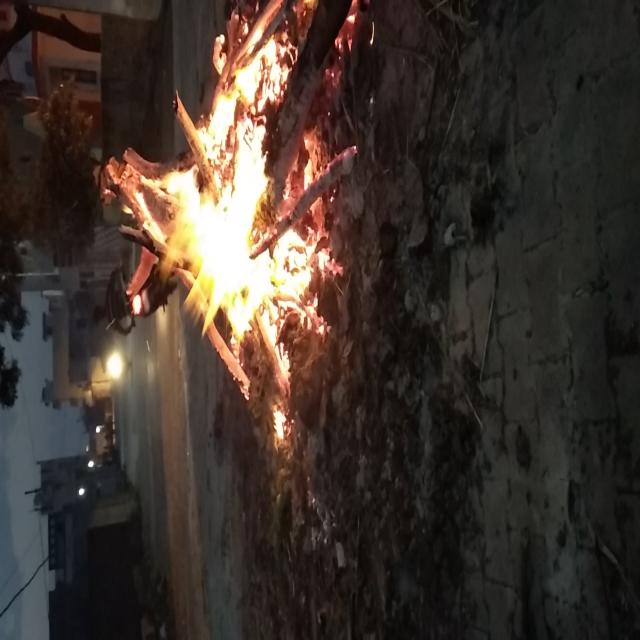fire: (109, 64, 319, 329)
